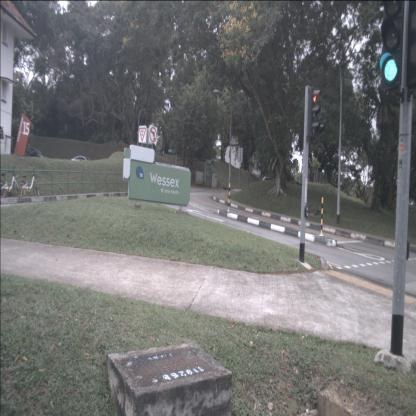vehicle-bicycle: (18, 165, 41, 196), (0, 166, 22, 197)
vehicle-car: (19, 147, 48, 166), (70, 155, 93, 169)
